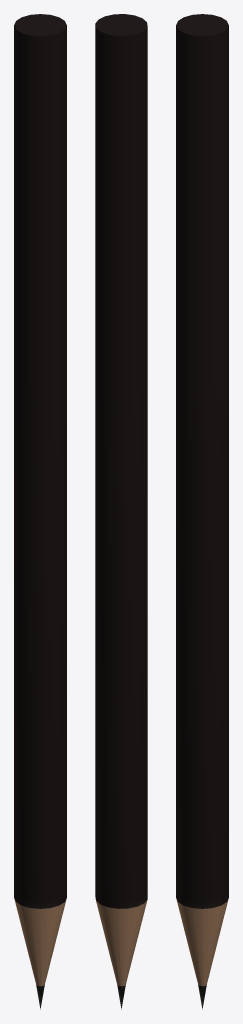
File: olowek3.fbx
The picture shows the model from 3 angles, left to right: view 1: azimuth 90°, elevation 25°; view 2: azimuth 150°, elevation 25°; view 3: azimuth 270°, elevation 25°; orthographic projection.
Visible parts, largest first — view 1: OLOWEK3; view 2: OLOWEK3; view 3: OLOWEK3.
Part boxes in pixels (x1,y1,x2,y2): OLOWEK3: (14, 14, 66, 1009); OLOWEK3: (95, 14, 147, 1009); OLOWEK3: (176, 14, 228, 1009).
Bounding box in the file's own units: 9.98 × 9.98 × 205.
